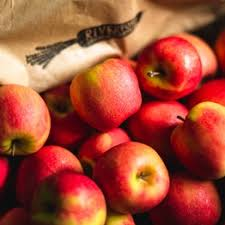apple: (73, 54, 142, 134), (95, 141, 171, 213), (19, 145, 87, 210), (140, 34, 204, 100), (170, 102, 225, 173), (2, 84, 54, 159), (40, 173, 112, 225), (161, 170, 220, 224)
